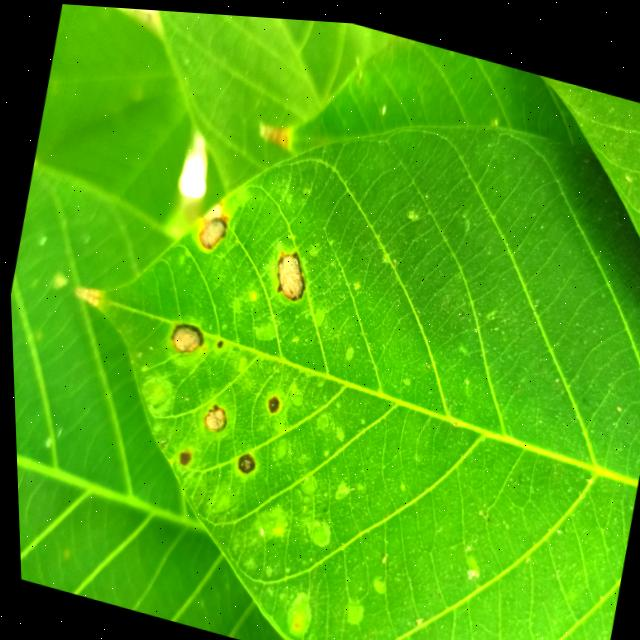Colletotrichum: (267, 244, 308, 299), (164, 317, 204, 356), (193, 209, 228, 252), (196, 398, 226, 432), (231, 447, 254, 473), (261, 390, 277, 411), (173, 446, 188, 465), (212, 336, 220, 345)
